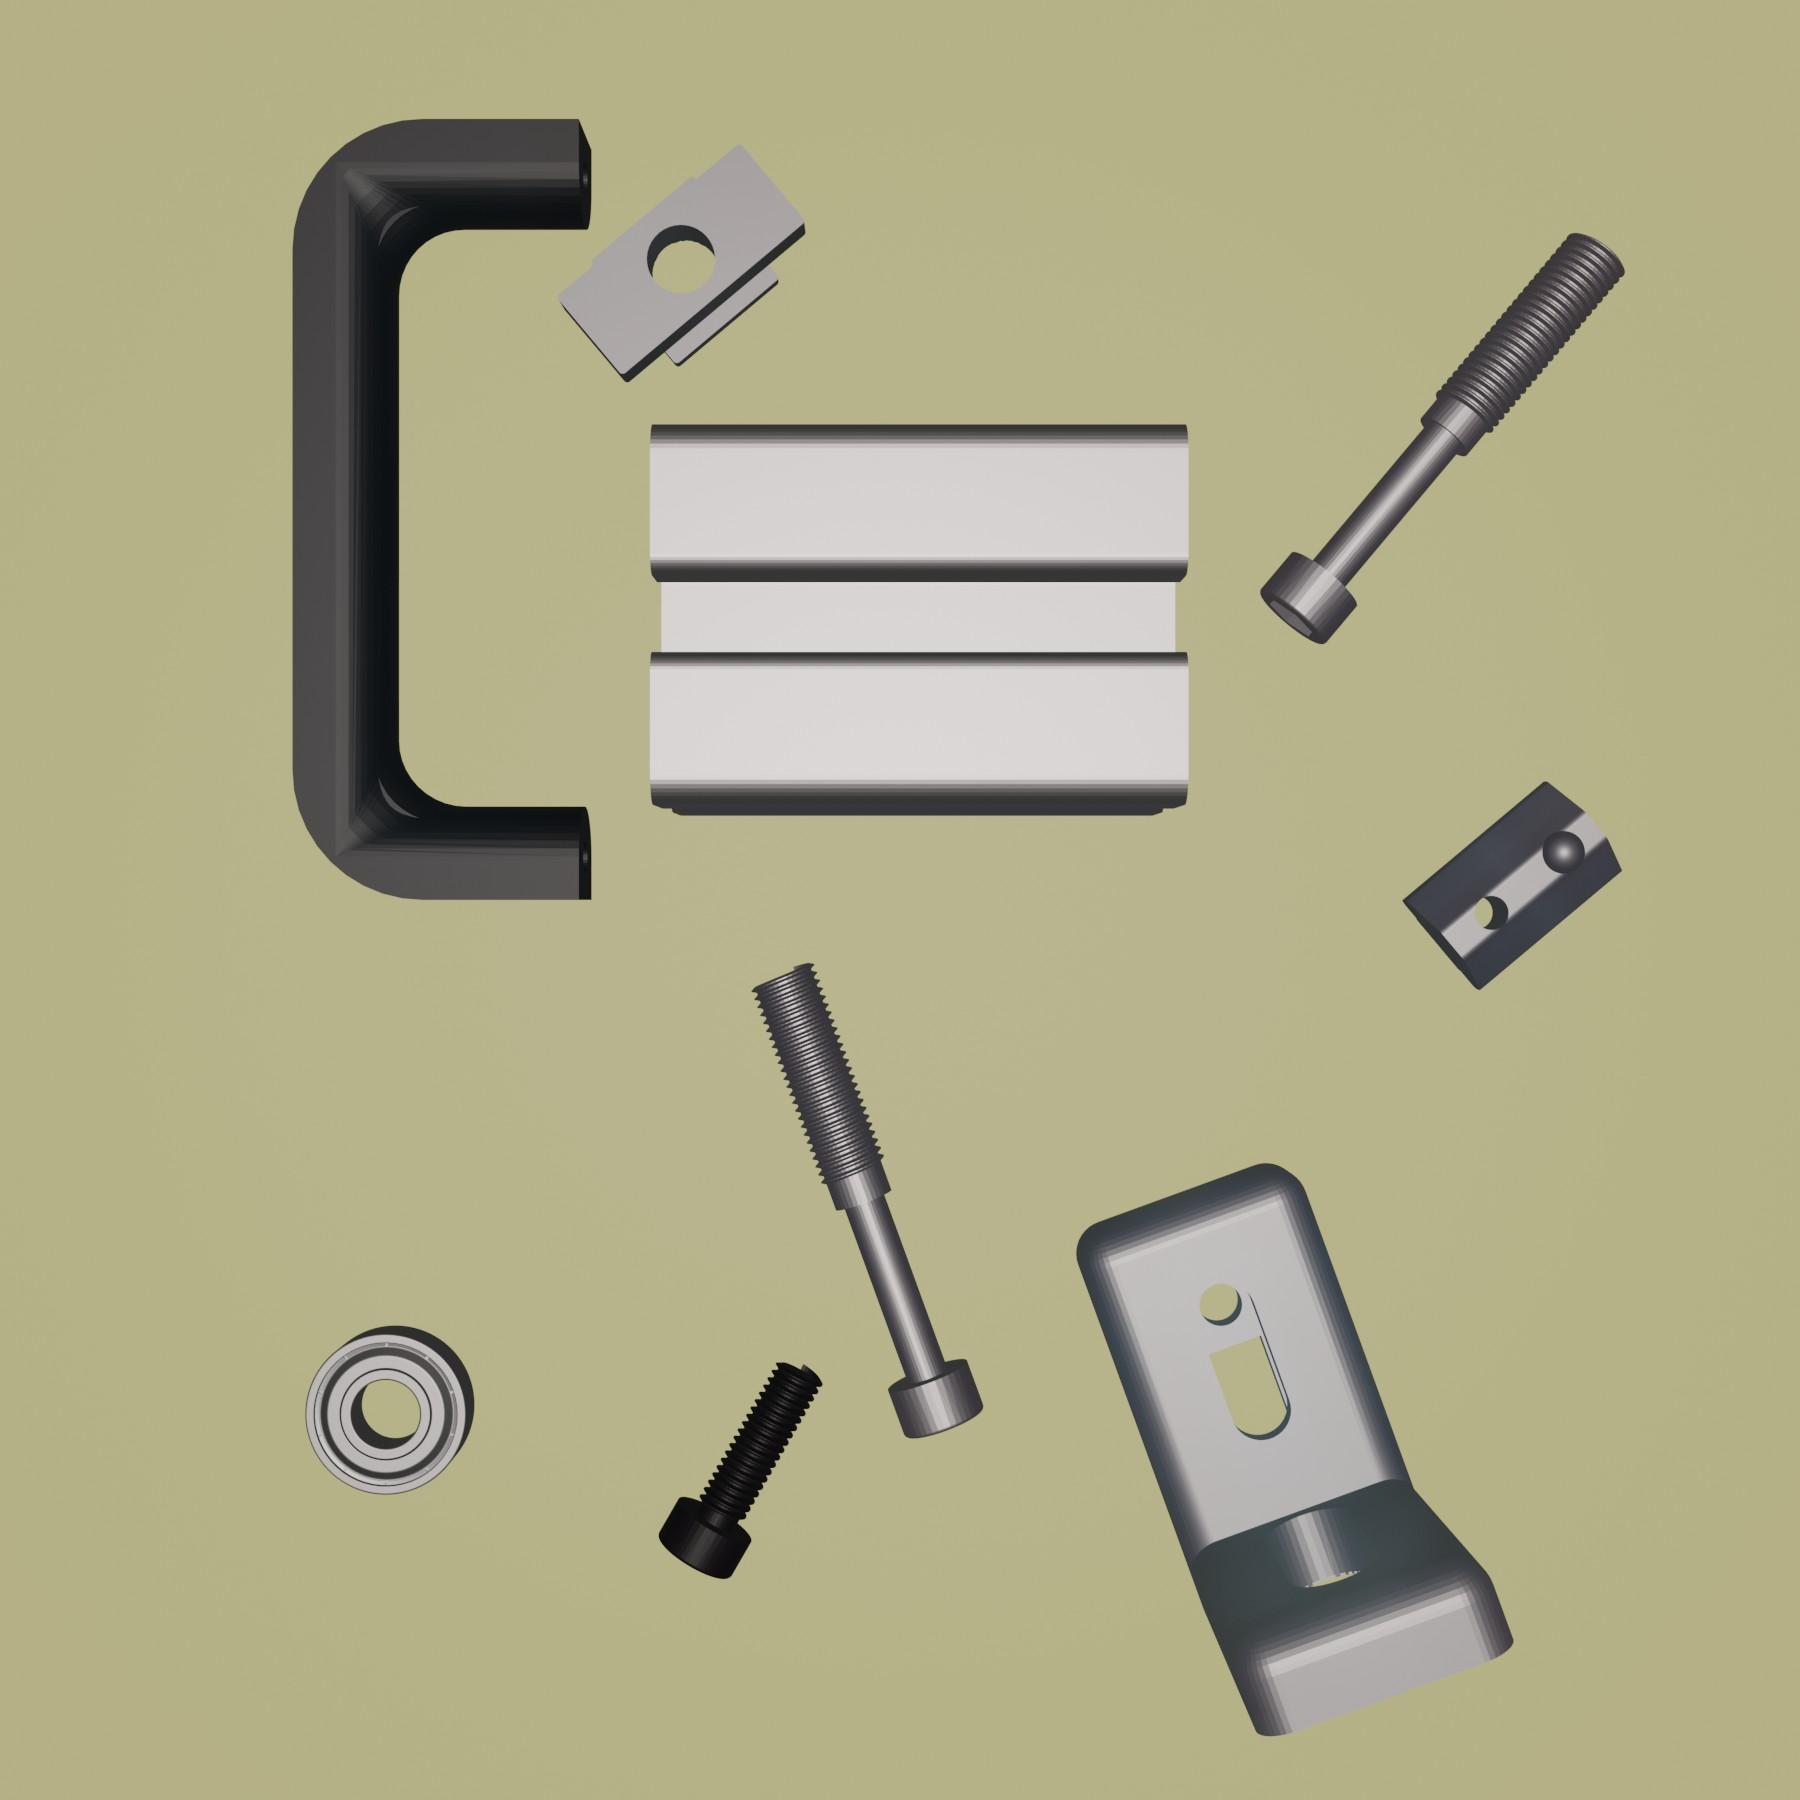Aluminium Extension: (641, 419, 1193, 819)
Ball Bearing: (303, 1322, 476, 1497)
Multiwinkel: (1075, 1160, 1515, 1741)
Pull Handle: (288, 115, 597, 903)
Shoulder Socket Head Cap Screw: (1258, 227, 1629, 646), (748, 959, 986, 1442)
Socket Head Cap Screw: (654, 1357, 821, 1581)
T Nut Square: (559, 142, 809, 386)
T Spring Nut: (1401, 778, 1625, 991)
